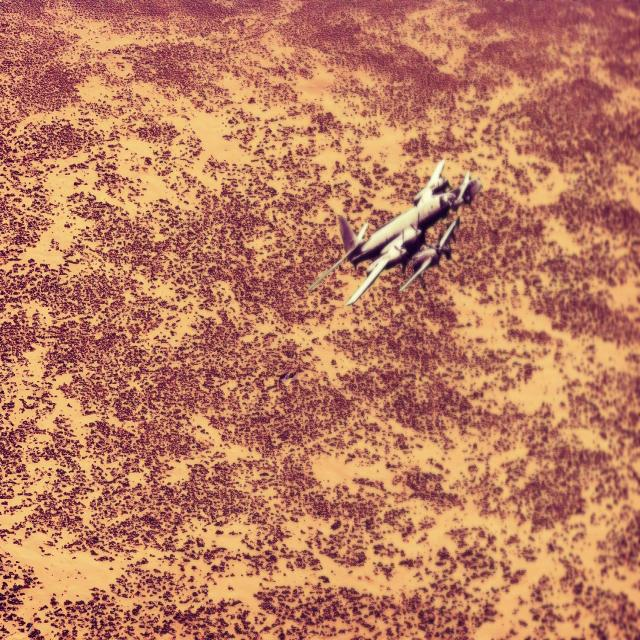airplane: (307, 158, 482, 306)
